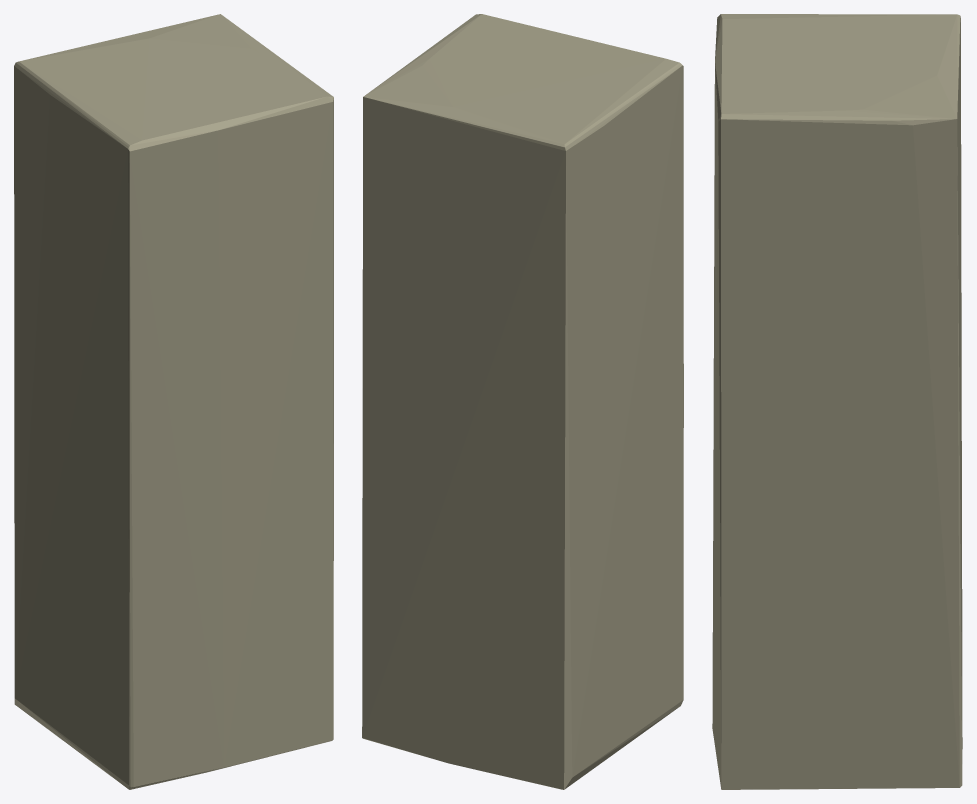
File: box_long_a05.glb
3 renders of one model, left to right at view 1: azimuth 30°, elevation 25°; view 2: azimuth 150°, elevation 25°; view 3: azimuth 270°, elevation 25°, orthographic. The views are drawn at different scales.
Parts seen in each view (by area): view 1: geometry_0; view 2: geometry_0; view 3: geometry_0.
Boxes of the visible parts, bbox=[...] form: geometry_0: bbox=[14, 14, 333, 789]; geometry_0: bbox=[362, 14, 683, 789]; geometry_0: bbox=[712, 14, 962, 789].
Size of the model in its own units: 0.1625 by 0.4797 by 0.1606.
